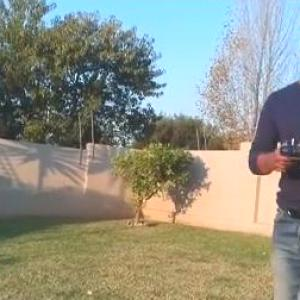follow: (244, 0, 299, 299)
